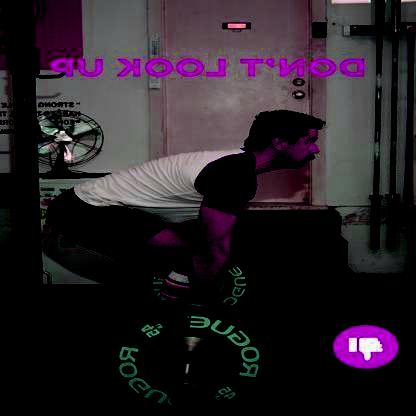Barbell: (169, 380, 196, 400)
